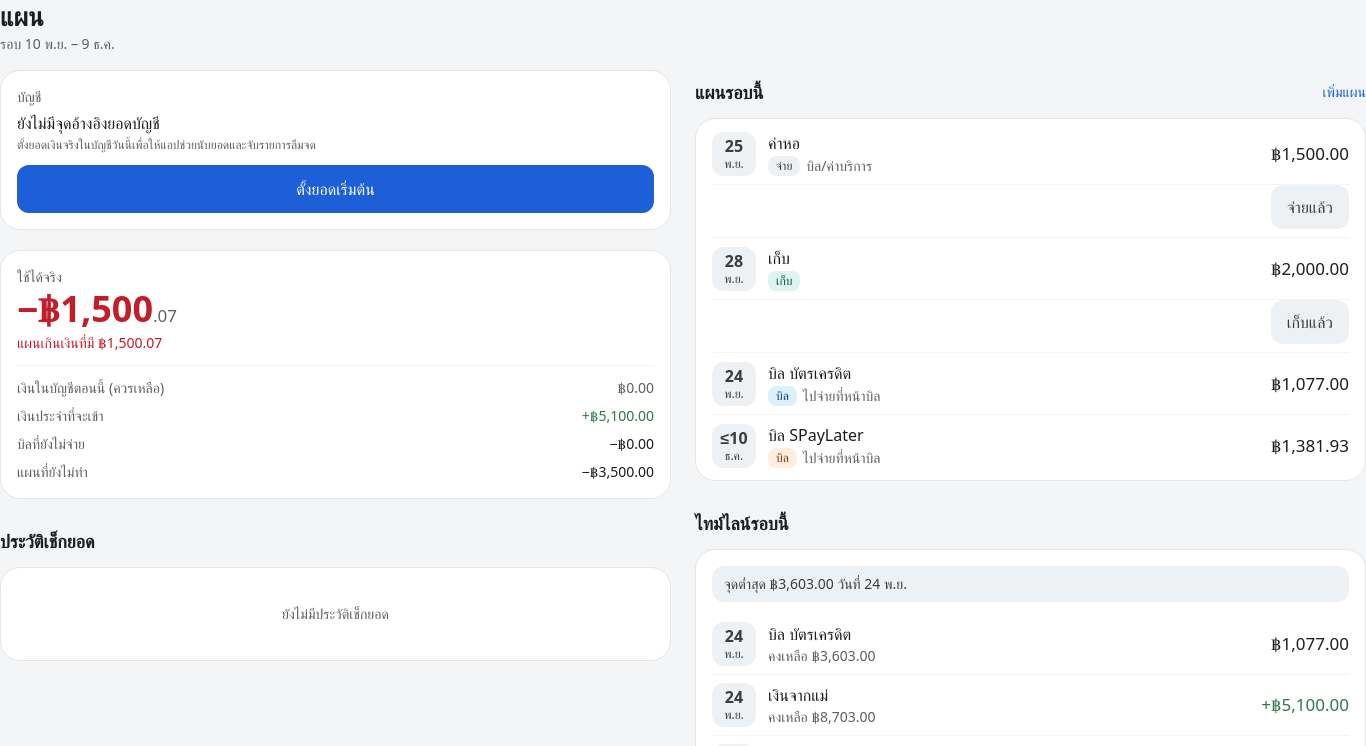
Scenario: <PlanPage> › shows "ตั้งยอดเริ่มต้น" when bank has no balance check and creates initial BalanceCheck for today
Click the button "ตั้งยอดเริ่มต้น" at [336, 189], box [17,165,654,213]
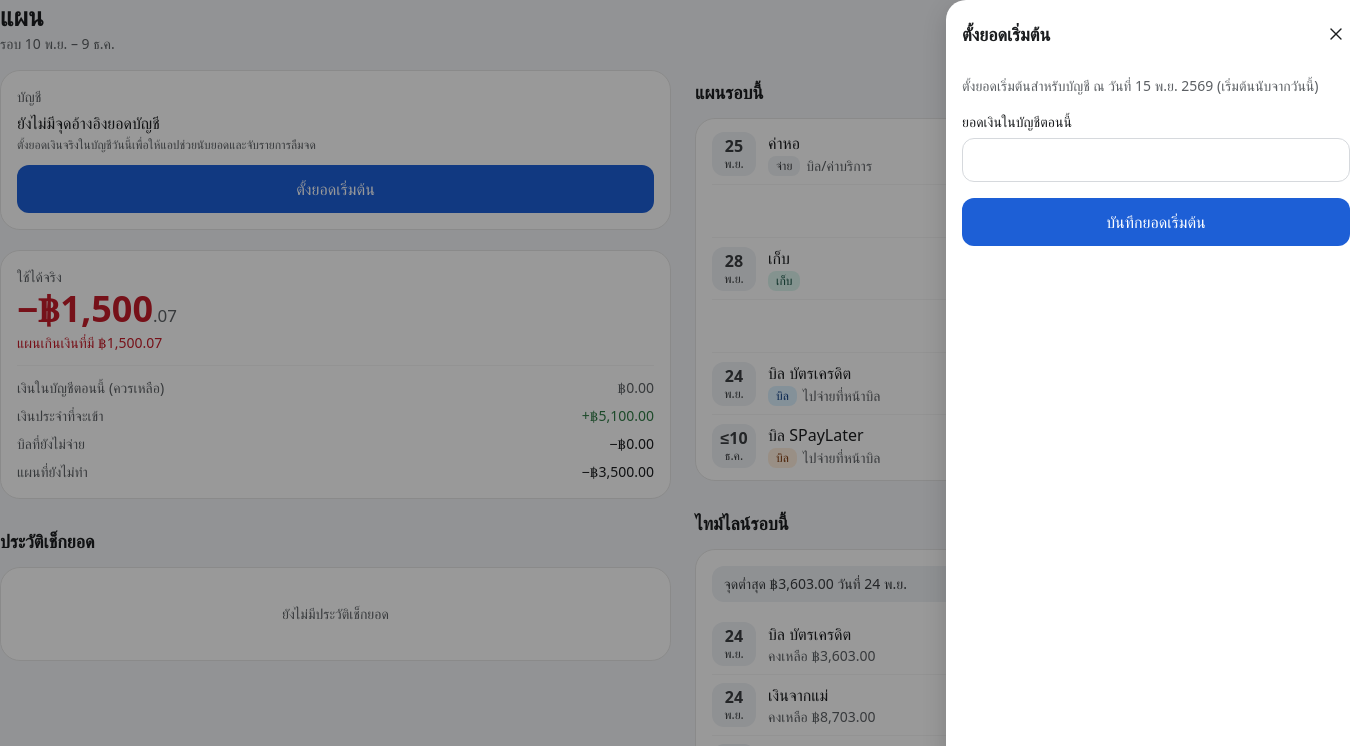
Expected: the heading "ตั้งยอดเริ่มต้น" is shown, [962,20,1050,48]
Type "5100" into the field labelled "ยอดเงินในบัญชีตอนนี้" at [1156, 160], box [962,138,1350,182]
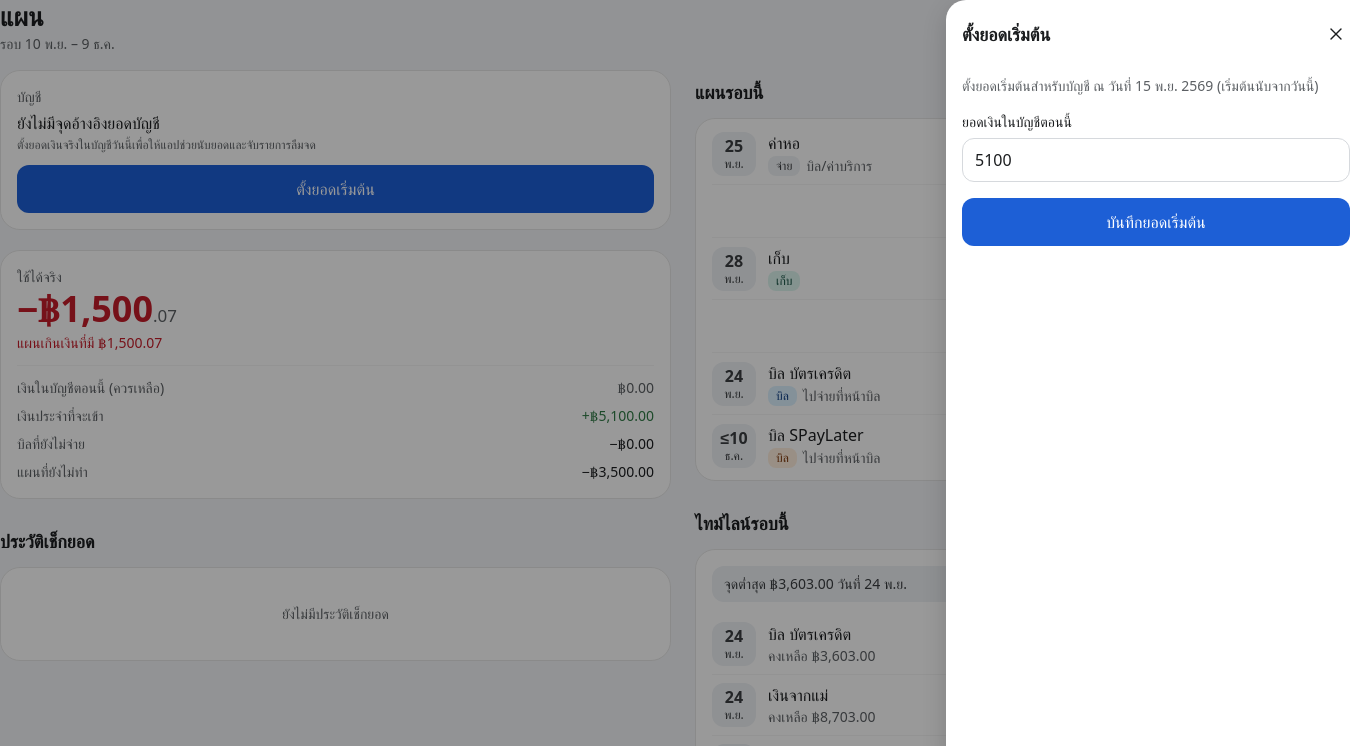
Click the button "บันทึกยอดเริ่มต้น" at [1156, 222], box [962,198,1350,246]
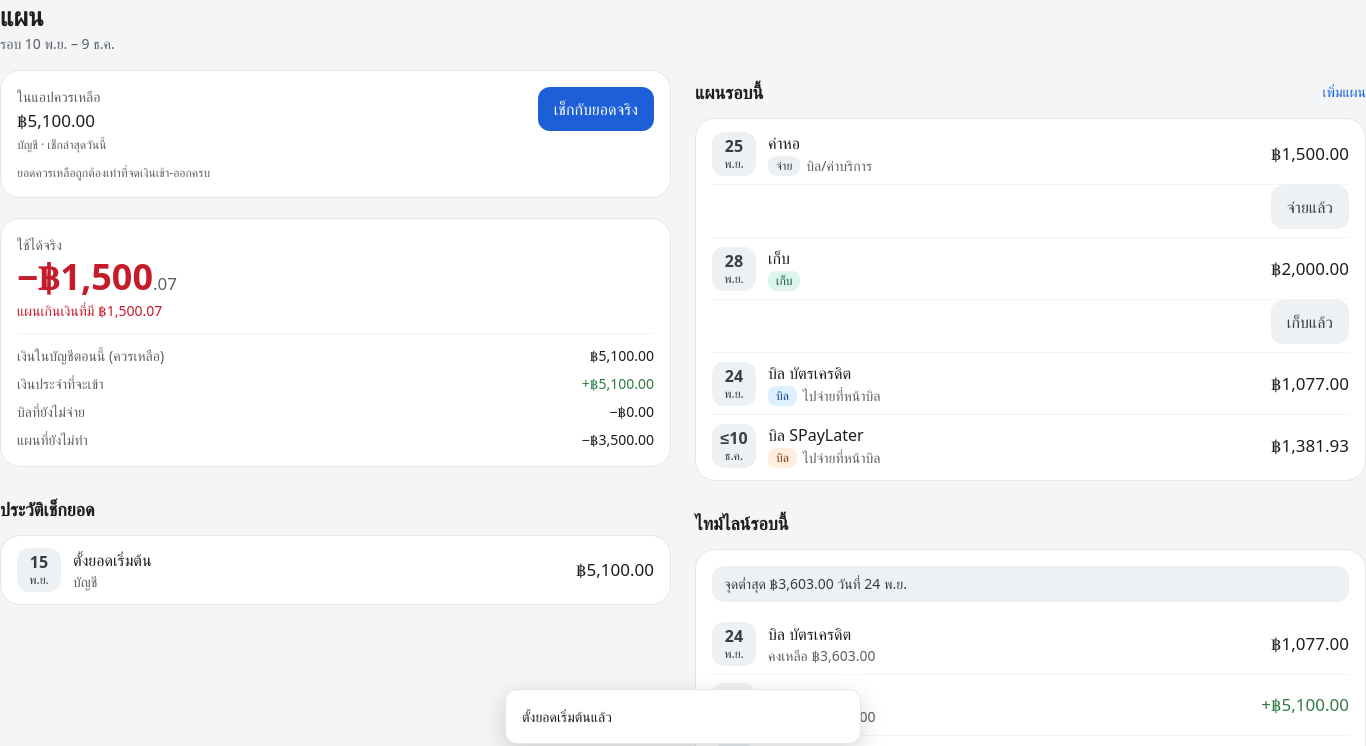
Expected: the text "ตั้งยอดเริ่มต้นแล้ว" is shown, [522,706,612,727]
